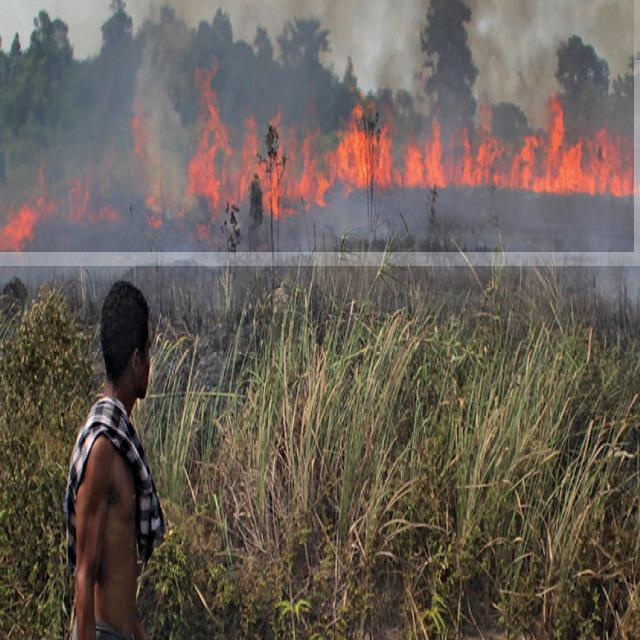Fire: (0, 60, 640, 266)
Smoke: (0, 0, 634, 252)
